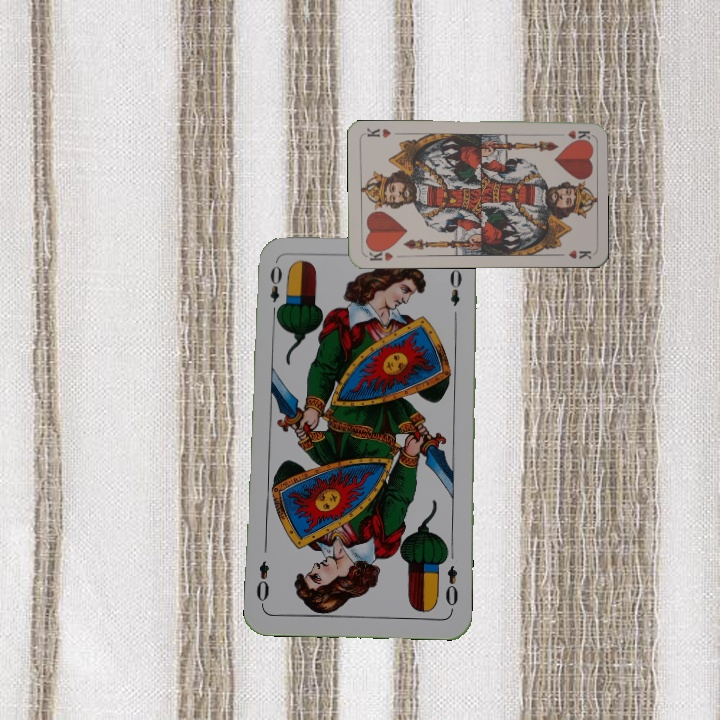EO: (266, 261, 285, 320), (441, 562, 461, 614)
HK: (551, 126, 591, 142), (363, 244, 396, 263)
